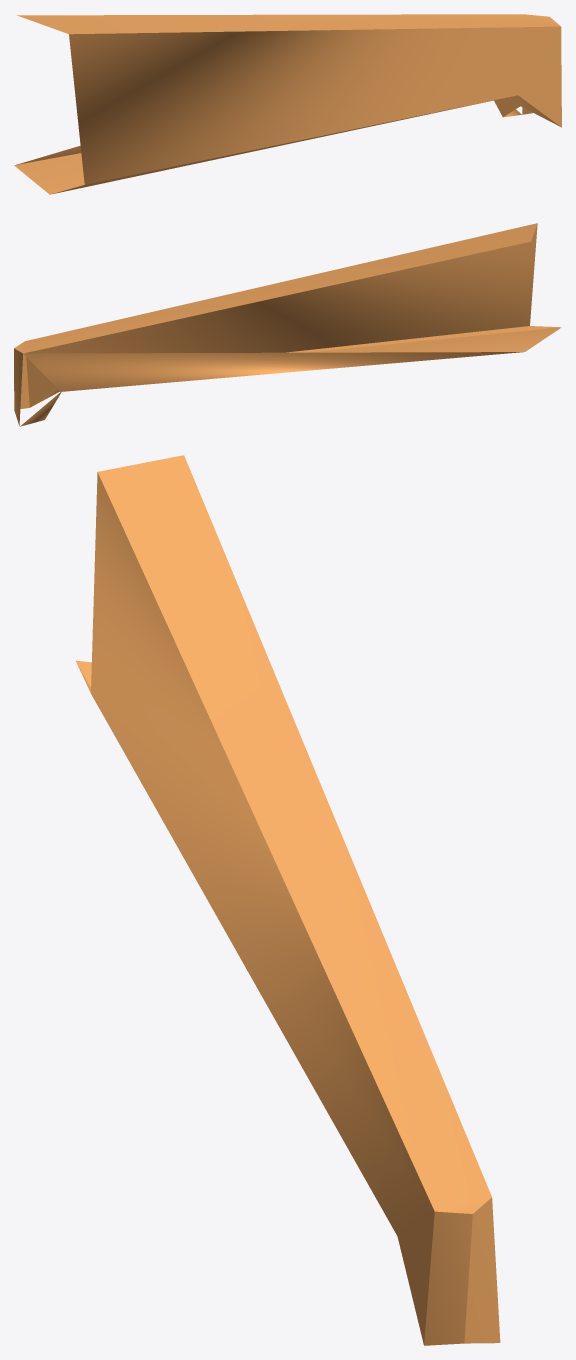
3 renders of one model, top to bottom at view 1: azimuth 30°, elevation 25°; view 2: azimuth 150°, elevation 25°; view 3: azimuth 270°, elevation 25°, orthographic. The views are drawn at different scales.
Size of the model in its own units: 0.5596 by 0.2764 by 0.2285.
